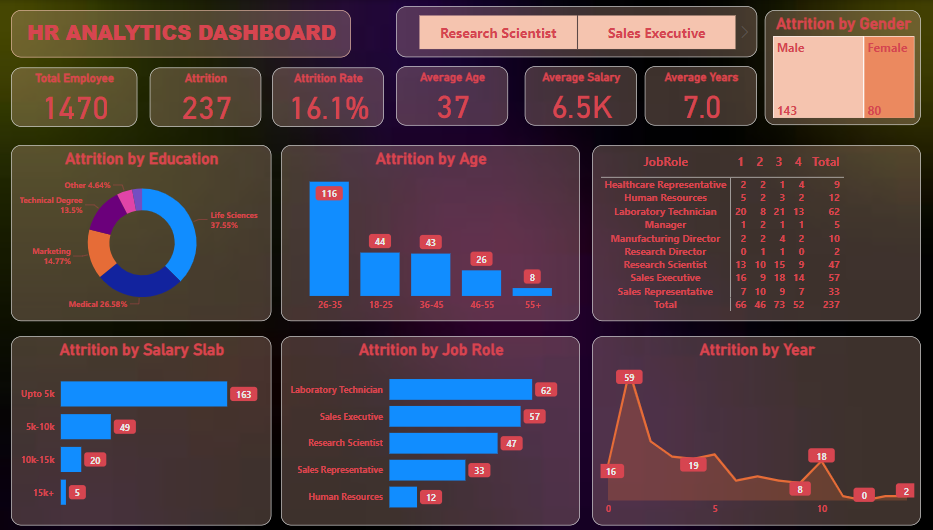

The page's visual inventory and layout, read from the dashboard file:
{"tool":"powerbi","page":{"name":"Page 1","canvas":[1280,720],"ordinal":0},"visuals":[{"type":"card","title":"Total Employee","fields":{"Values":["CountNonNull(HR_Analytics.EmpID)"]},"box":[34.3,90.6,170,80],"z":0},{"type":"card","title":"Average Age","fields":{"Values":["Avg(HR_Analytics.Age)"]},"box":[553,89.2,150.9,80],"z":1000},{"type":"card","title":"Attrition Rate","fields":{"Values":["HR_Analytics.AttritionRate"]},"box":[385.6,90.6,150,80],"z":2000},{"type":"card","title":"Attrition","fields":{"Values":["Sum(HR_Analytics.AttritionCount)"]},"box":[220.9,90.6,150,80],"z":3000},{"type":"card","title":"Average Salary","fields":{"Values":["Avg(HR_Analytics.MonthlyIncome)"]},"box":[725.9,89.2,150.9,80],"z":4000},{"type":"card","title":"Average Years","fields":{"Values":["Avg(HR_Analytics.YearsAtCompany)"]},"box":[887.8,89.3,151.1,79.7],"z":5000},{"type":"donutChart","title":"Attrition by Education","fields":{"Category":["HR_Analytics.EducationField"],"Y":["Sum(HR_Analytics.AttritionCount)"]},"box":[34.3,196.2,351.3,237.4],"z":6000},{"type":"columnChart","title":"Attrition by Age","fields":{"Category":["HR_Analytics.AgeGroup"],"Y":["Sum(HR_Analytics.AttritionCount)"]},"box":[397.9,196.2,403.4,237.4],"z":7000},{"type":"pivotTable","fields":{"Rows":["HR_Analytics.JobRole"],"Columns":["HR_Analytics.JobSatisfaction"],"Values":["Sum(HR_Analytics.AttritionCount)"]},"box":[817.7,195.6,443.4,237.7],"z":8000},{"type":"barChart","title":"Attrition by Salary Slab","fields":{"Category":["HR_Analytics.SalarySlab"],"Y":["Sum(HR_Analytics.AttritionCount)"]},"box":[34.3,452.8,351.3,255.2],"z":9000},{"type":"barChart","title":"Attrition by Job Role","fields":{"Category":["HR_Analytics.JobRole"],"Y":["Sum(HR_Analytics.AttritionCount)"]},"box":[397.9,452.8,403.4,255.2],"z":10000},{"type":"areaChart","title":"Attrition by Year","fields":{"Category":["HR_Analytics.YearsAtCompany"],"Y":["Sum(HR_Analytics.AttritionCount)"]},"box":[817.8,452.8,443.2,255.2],"z":11000},{"type":"treemap","title":"Attrition by Gender","fields":{"Group":["HR_Analytics.Gender"],"Values":["Sum(HR_Analytics.AttritionCount)"]},"box":[1050.4,13.5,210.8,155.1],"z":12000},{"type":"textbox","box":[34.5,14.3,458.2,64.3],"z":13000},{"type":"slicer","fields":{"Values":["HR_Analytics.JobRole"]},"box":[553,8.4,487.3,69.1],"z":14000}]}

Visuals, with their boxes in screenshot pixels (x1, y1, x2, y2), scaled from the page's 1280x720 canvas onto the 933x530 screenshot:
"Total Employee" card: rect(25, 67, 149, 126)
"Average Age" card: rect(403, 66, 513, 125)
"Attrition Rate" card: rect(281, 67, 390, 126)
"Attrition" card: rect(161, 67, 270, 126)
"Average Salary" card: rect(529, 66, 639, 125)
"Average Years" card: rect(647, 66, 757, 124)
"Attrition by Education" donutChart: rect(25, 144, 281, 319)
"Attrition by Age" columnChart: rect(290, 144, 584, 319)
pivotTable - HR_Analytics.JobRole x HR_Analytics.JobSatisfaction: rect(596, 144, 919, 319)
"Attrition by Salary Slab" barChart: rect(25, 333, 281, 521)
"Attrition by Job Role" barChart: rect(290, 333, 584, 521)
"Attrition by Year" areaChart: rect(596, 333, 919, 521)
"Attrition by Gender" treemap: rect(766, 10, 919, 124)
textbox: rect(25, 11, 359, 58)
slicer - HR_Analytics.JobRole: rect(403, 6, 758, 57)
